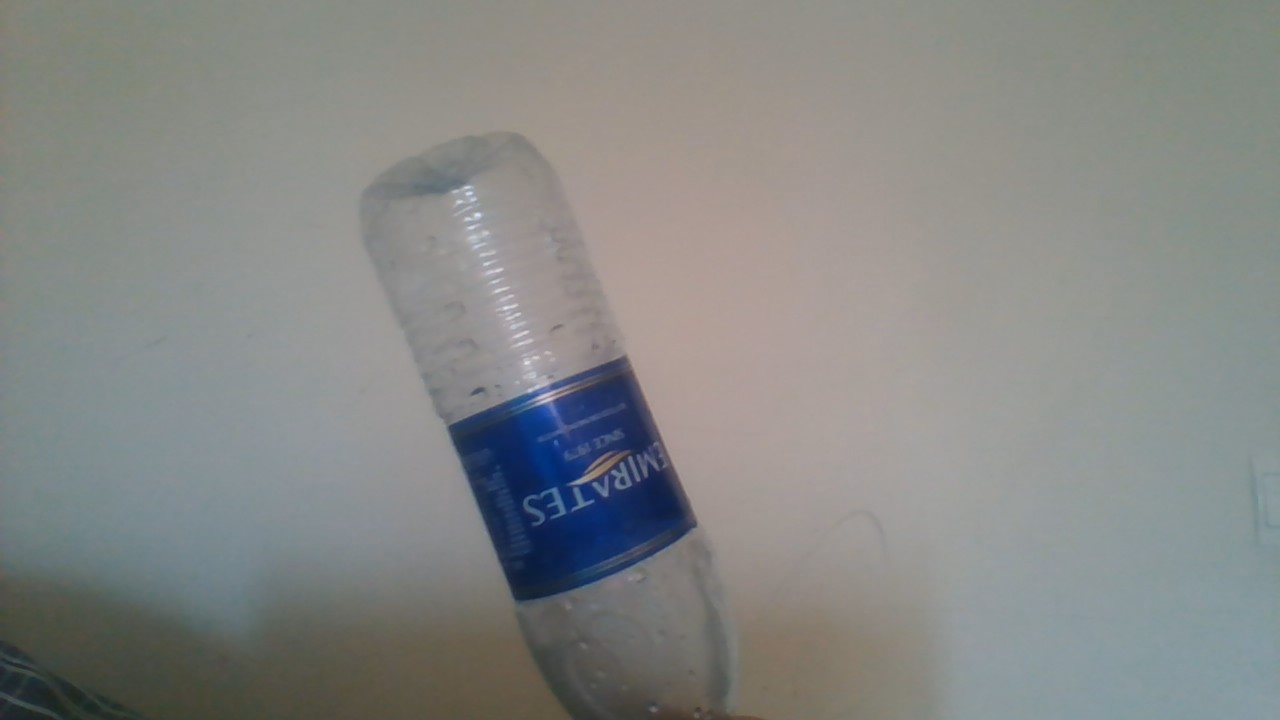plastic: (334, 123, 758, 720)
